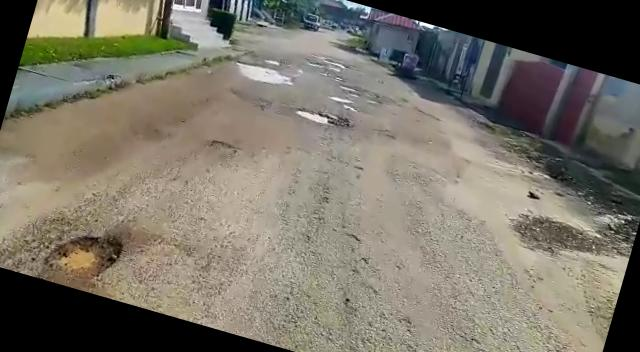pothole: (47, 222, 128, 292), (234, 57, 294, 89), (294, 103, 346, 129), (338, 81, 376, 100), (327, 95, 355, 108)
